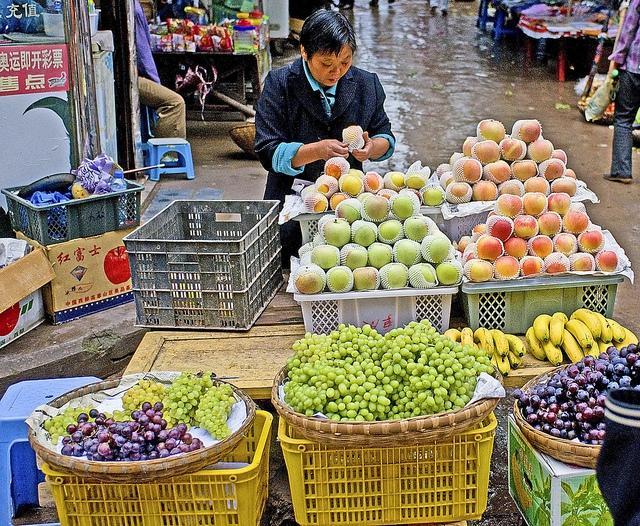apple: (104, 246, 131, 285), (392, 238, 423, 268), (390, 190, 420, 220), (421, 235, 451, 264), (323, 219, 351, 248), (379, 262, 409, 289), (326, 266, 354, 294), (552, 233, 578, 258), (295, 272, 324, 294), (315, 174, 340, 199), (368, 244, 392, 270), (478, 236, 502, 262), (364, 196, 388, 220), (479, 122, 505, 144), (474, 142, 500, 164), (345, 249, 368, 273), (353, 268, 377, 291), (312, 246, 337, 268), (494, 256, 520, 277), (436, 263, 460, 285), (538, 212, 560, 235), (337, 204, 359, 227), (498, 195, 522, 216), (524, 194, 546, 216), (406, 218, 428, 240), (530, 140, 552, 162), (547, 194, 570, 215), (564, 212, 588, 232), (304, 192, 328, 212), (503, 238, 527, 258), (491, 220, 512, 242), (514, 217, 536, 238), (519, 120, 540, 142), (354, 226, 376, 247), (579, 230, 602, 250), (472, 182, 496, 201), (502, 139, 523, 159), (532, 237, 552, 258), (342, 175, 362, 196), (598, 251, 618, 272), (490, 161, 510, 182), (471, 262, 493, 281), (513, 162, 536, 180), (552, 180, 576, 197), (380, 221, 400, 240), (544, 161, 564, 180), (464, 160, 481, 182), (524, 178, 546, 194), (522, 258, 542, 275), (448, 152, 466, 170), (423, 190, 443, 206), (500, 183, 520, 197), (326, 163, 342, 180), (574, 256, 592, 271), (546, 262, 567, 274), (451, 184, 468, 198), (332, 194, 346, 210), (406, 177, 424, 189), (462, 138, 472, 158), (552, 151, 566, 165), (391, 174, 405, 188), (368, 174, 380, 190), (458, 238, 469, 253), (566, 169, 576, 180), (474, 224, 486, 233), (348, 170, 360, 178), (466, 253, 474, 262), (488, 212, 497, 219)
banana: (570, 308, 601, 340), (566, 318, 594, 350), (525, 326, 549, 362), (540, 331, 563, 366), (562, 328, 585, 362), (488, 328, 509, 362), (550, 312, 569, 348), (474, 327, 494, 361), (593, 312, 613, 344), (494, 342, 511, 378), (504, 334, 526, 358), (534, 314, 552, 342), (606, 318, 626, 343), (582, 339, 600, 359), (507, 348, 522, 370), (622, 326, 638, 345), (596, 338, 614, 354), (461, 328, 474, 348), (444, 329, 461, 342), (611, 338, 629, 350), (491, 352, 498, 368), (478, 343, 482, 349)
grape: (156, 430, 171, 444), (576, 389, 590, 403), (536, 387, 550, 400), (165, 438, 178, 451), (574, 374, 588, 386), (72, 443, 84, 457), (628, 366, 640, 380), (612, 364, 626, 376), (568, 365, 580, 379), (583, 382, 595, 396), (98, 442, 110, 456), (620, 376, 634, 387), (594, 406, 604, 421), (576, 402, 588, 414), (626, 352, 638, 364), (584, 355, 596, 367), (44, 418, 56, 430), (362, 382, 376, 392), (596, 394, 606, 408), (138, 415, 150, 426), (116, 435, 128, 446), (334, 374, 346, 385), (61, 444, 72, 456), (84, 440, 95, 452), (121, 426, 134, 436), (599, 377, 610, 388), (565, 378, 576, 389), (145, 442, 156, 453), (546, 412, 557, 423), (545, 386, 556, 397), (512, 390, 524, 400), (626, 344, 638, 354), (558, 427, 568, 439), (582, 421, 592, 433), (158, 448, 170, 458), (66, 424, 78, 434), (110, 433, 118, 447), (424, 346, 438, 354), (62, 435, 72, 446), (89, 408, 99, 419), (434, 341, 444, 352), (382, 384, 393, 394), (520, 394, 531, 404), (104, 418, 115, 428), (190, 441, 200, 452), (377, 396, 388, 406), (182, 433, 192, 444), (342, 395, 352, 406), (123, 442, 133, 452), (568, 383, 578, 393), (398, 358, 408, 368), (328, 402, 338, 412), (349, 382, 358, 393), (598, 352, 610, 360), (595, 370, 603, 382), (578, 428, 586, 440), (368, 400, 376, 412), (152, 415, 162, 424), (326, 388, 335, 398), (94, 417, 104, 426), (547, 378, 557, 387), (381, 360, 391, 369), (387, 372, 397, 381), (538, 399, 548, 408), (188, 407, 196, 418), (109, 423, 117, 434), (346, 410, 357, 418), (365, 368, 373, 379), (160, 419, 168, 430), (478, 365, 489, 373), (363, 326, 371, 337), (446, 340, 454, 351), (452, 345, 463, 353), (170, 448, 182, 455), (438, 387, 447, 396), (392, 346, 401, 355), (576, 412, 585, 421), (349, 325, 358, 334), (76, 422, 85, 431), (144, 423, 154, 431), (372, 366, 380, 376), (430, 367, 438, 377), (145, 410, 155, 418), (300, 396, 310, 404), (463, 368, 473, 376), (62, 416, 70, 426), (464, 391, 474, 399), (444, 400, 452, 410), (568, 399, 576, 409), (598, 430, 606, 440), (410, 344, 420, 352), (560, 412, 568, 422), (454, 398, 464, 406), (410, 376, 420, 384), (354, 394, 364, 402), (473, 362, 481, 372), (294, 391, 304, 399), (346, 402, 356, 410), (346, 331, 353, 342), (355, 370, 364, 378), (310, 376, 318, 385), (434, 396, 443, 404), (396, 384, 405, 392), (445, 367, 453, 376), (304, 398, 312, 407), (390, 328, 399, 336), (575, 362, 584, 370), (382, 376, 391, 384), (468, 376, 476, 385), (48, 427, 58, 434), (458, 358, 468, 365), (154, 411, 164, 418), (359, 409, 369, 416), (350, 376, 357, 386), (364, 413, 374, 420), (314, 404, 324, 411), (411, 332, 421, 339), (558, 370, 569, 376), (345, 356, 353, 364), (436, 376, 444, 384), (454, 379, 462, 387), (322, 368, 330, 376), (320, 375, 328, 383), (314, 348, 322, 356), (294, 405, 302, 413), (447, 376, 455, 384), (395, 336, 403, 344), (378, 339, 386, 347), (190, 398, 198, 406), (376, 348, 384, 356), (397, 404, 405, 412), (412, 336, 420, 344), (416, 362, 424, 370), (182, 376, 190, 384), (304, 332, 312, 340), (603, 360, 611, 368), (332, 331, 340, 339), (120, 410, 128, 418), (228, 396, 236, 404), (334, 358, 342, 366), (354, 365, 363, 372), (406, 329, 415, 336), (358, 339, 365, 348), (537, 411, 544, 420), (205, 378, 212, 387), (331, 414, 340, 421), (361, 352, 370, 359), (193, 384, 202, 391), (456, 352, 465, 359), (338, 344, 347, 351), (362, 324, 371, 331), (418, 388, 427, 395), (572, 420, 578, 430), (344, 342, 354, 348), (354, 402, 360, 412), (95, 426, 105, 432), (220, 394, 230, 400), (355, 415, 365, 421), (170, 402, 178, 409), (300, 344, 308, 351), (440, 353, 448, 360), (450, 388, 457, 396), (176, 408, 184, 415), (404, 344, 412, 351), (308, 403, 316, 410), (137, 395, 145, 402), (399, 368, 406, 376), (326, 379, 334, 386), (297, 349, 304, 357), (397, 328, 404, 336), (486, 366, 494, 373), (204, 409, 212, 416), (338, 324, 346, 331), (468, 348, 475, 356), (309, 391, 317, 398), (406, 390, 413, 398), (180, 395, 188, 402), (304, 363, 313, 369), (134, 420, 139, 430), (127, 388, 134, 395), (321, 346, 328, 353), (409, 321, 416, 328), (166, 422, 173, 429), (432, 353, 439, 360), (372, 353, 379, 360), (449, 351, 456, 358), (202, 398, 209, 405), (412, 368, 419, 375), (375, 334, 382, 341), (352, 350, 359, 357), (52, 438, 58, 446), (214, 420, 222, 426), (377, 412, 385, 418), (384, 405, 390, 413), (424, 390, 432, 396), (142, 382, 150, 388), (212, 424, 218, 432), (156, 388, 164, 394), (420, 375, 428, 381), (95, 431, 101, 439), (66, 408, 74, 414), (59, 414, 65, 422), (306, 350, 314, 356), (284, 394, 290, 402), (388, 403, 394, 411), (316, 387, 322, 394), (175, 392, 182, 398), (186, 386, 192, 393), (220, 432, 227, 438), (323, 407, 329, 414), (213, 406, 220, 412), (321, 398, 327, 405), (390, 361, 397, 367), (392, 406, 398, 413), (201, 416, 207, 423), (413, 398, 420, 404), (139, 379, 145, 386), (612, 350, 620, 355), (113, 410, 121, 415), (321, 332, 326, 340), (150, 385, 158, 390), (302, 384, 310, 389), (168, 408, 172, 418), (146, 388, 152, 394), (225, 406, 231, 412), (422, 324, 428, 330), (288, 356, 294, 362), (74, 412, 80, 418), (224, 400, 230, 406), (180, 386, 186, 392), (158, 394, 164, 400), (210, 396, 216, 402), (126, 409, 132, 415), (300, 374, 306, 380), (376, 385, 383, 390), (462, 346, 469, 351), (332, 385, 339, 390), (407, 358, 414, 363), (378, 354, 382, 362), (558, 403, 563, 409), (88, 405, 94, 410), (346, 382, 351, 388), (328, 360, 333, 366), (288, 389, 294, 394), (346, 373, 350, 380), (224, 387, 228, 394), (313, 336, 320, 340), (339, 335, 344, 340), (318, 366, 324, 370), (300, 368, 304, 374), (546, 407, 550, 413), (364, 339, 368, 345), (343, 370, 347, 376), (428, 322, 432, 328), (432, 332, 440, 335), (388, 416, 394, 420), (428, 334, 432, 339), (452, 373, 456, 378), (185, 398, 190, 402), (484, 356, 489, 360), (134, 403, 137, 408), (448, 336, 451, 340), (416, 404, 419, 407), (290, 377, 292, 381)
